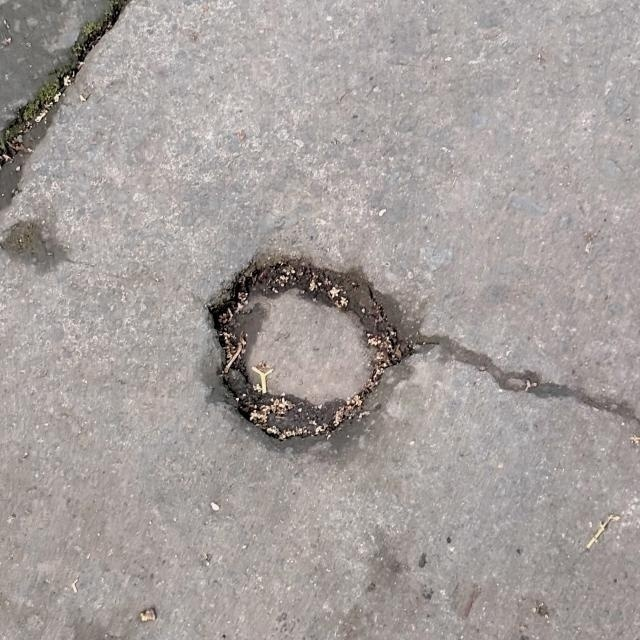pothole: (161, 192, 471, 512)
